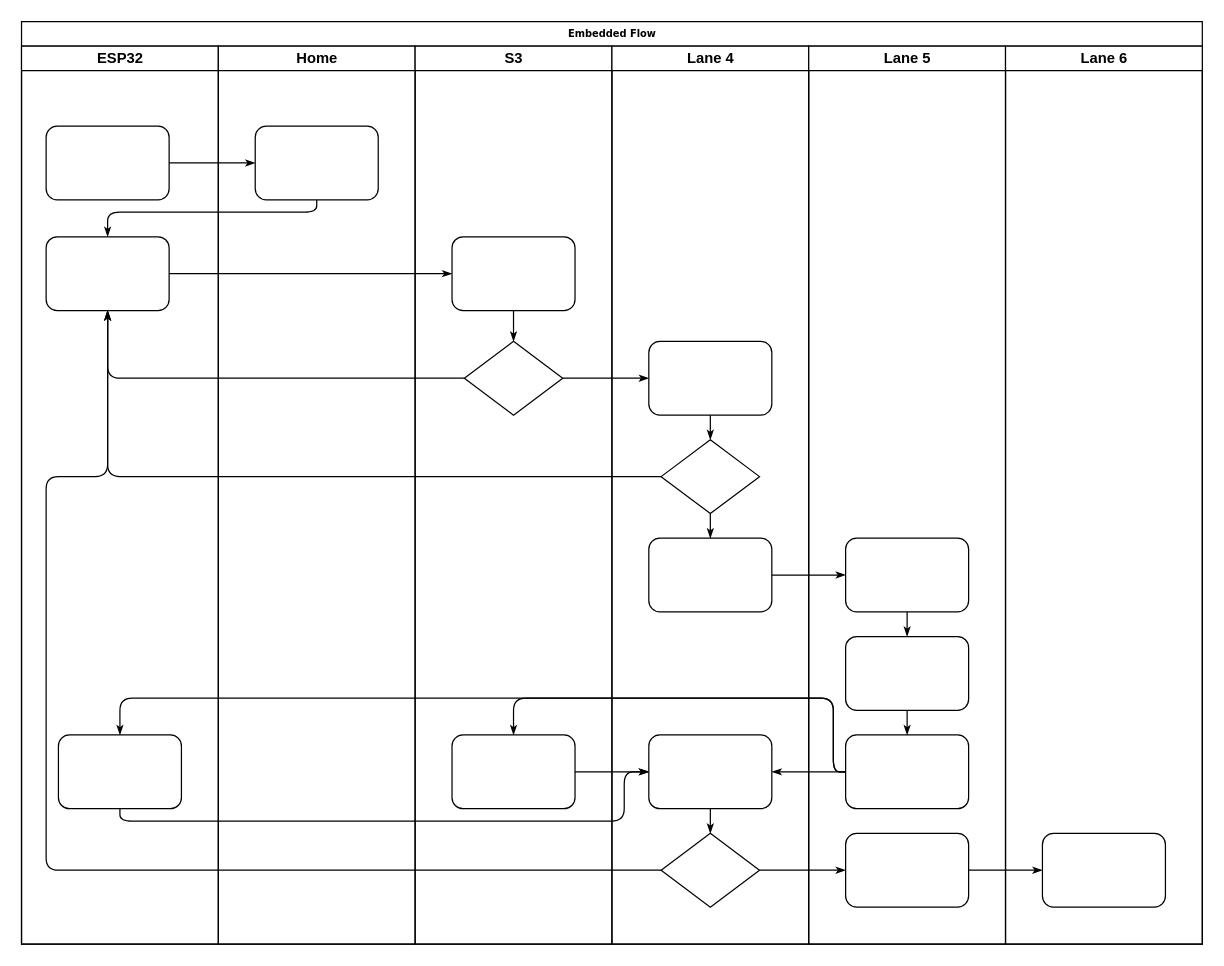
Image size: 1224x966. Some labels were removed from this diagram. Here are the shapes that lost their labels. From the top down, the centre of each, then its label:
point (107, 162): Hike around and record GPS coordinates
point (316, 162): Power on device near configured wireless
point (107, 273): Get last GPS coordinate unique value
